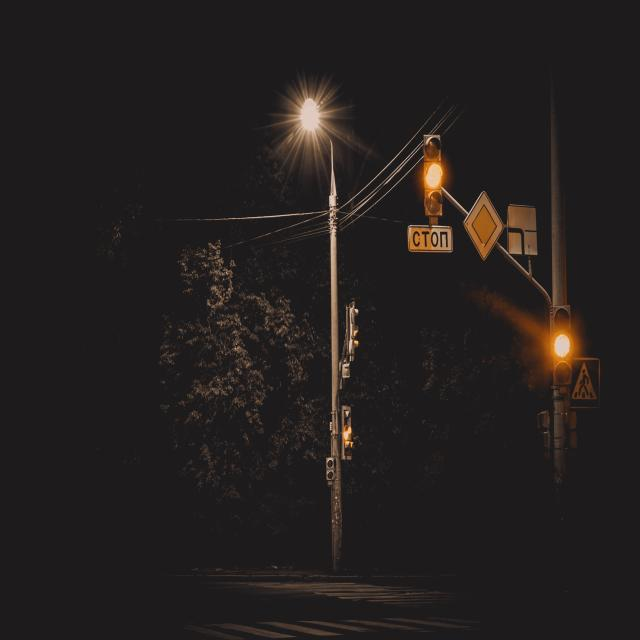Street Light: (299, 97, 345, 573)
